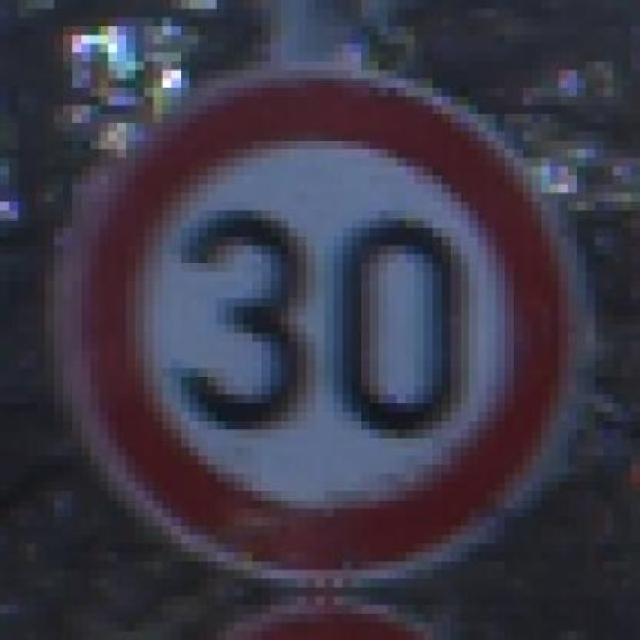Speed Limit 30 KMPh: (36, 52, 604, 597)
